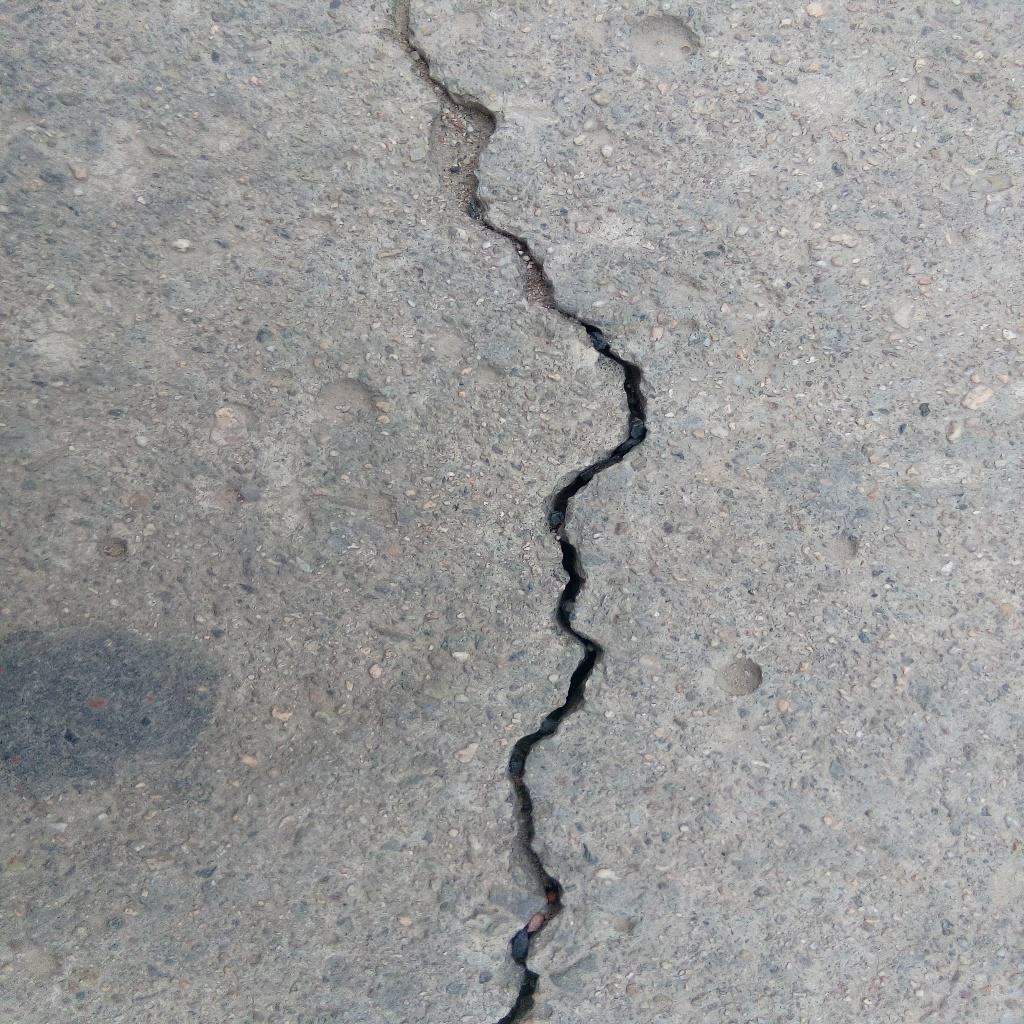Crack: (401, 1, 652, 1024)
